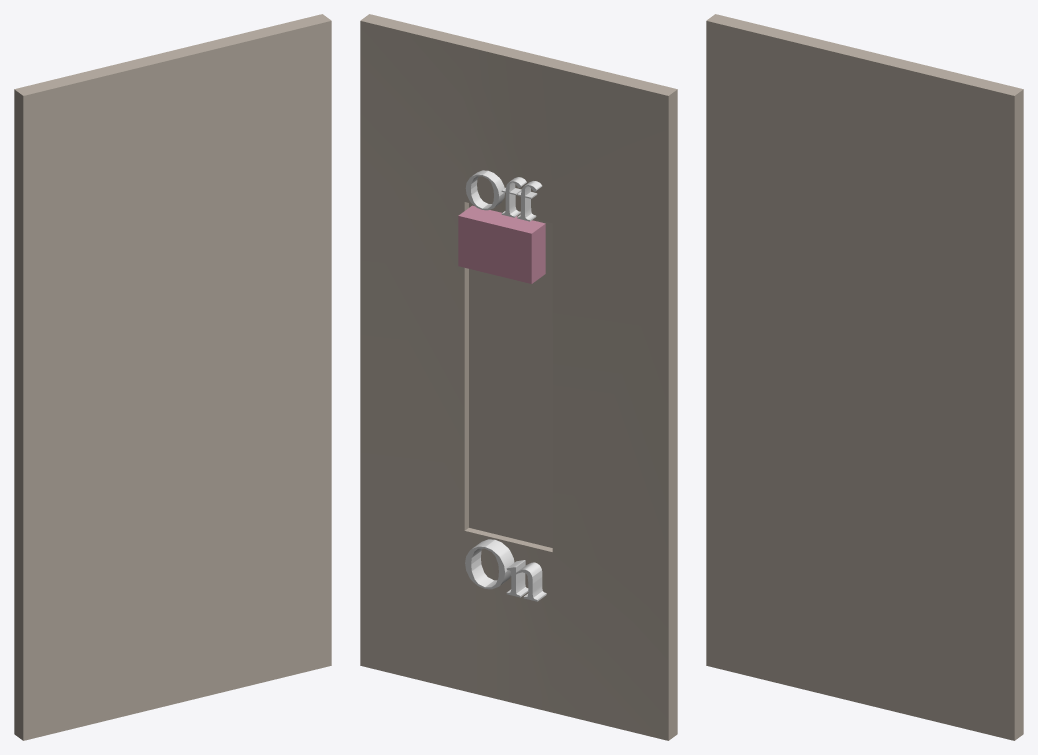
File: switch.fbx
The picture shows the model from 3 angles, left to right: view 1: azimuth 30°, elevation 25°; view 2: azimuth 150°, elevation 25°; view 3: azimuth 330°, elevation 25°; orthographic projection.
Visible parts, largest first — view 1: pCube1; view 2: pCube1, pCube2, Trim_Char_O_1_2, Trim_Char_O_1_1; view 3: pCube1.
Boxes of the visible parts, box(x1,y1,x2,y2) form: pCube1: box(14, 14, 331, 740); pCube1: box(360, 14, 677, 740); pCube2: box(458, 205, 545, 283); Trim_Char_O_1_2: box(465, 539, 546, 601); Trim_Char_O_1_1: box(465, 170, 542, 221); pCube1: box(706, 14, 1023, 740).
Bounding box in the file's own units: 2.13 × 4.25 × 0.2303.
